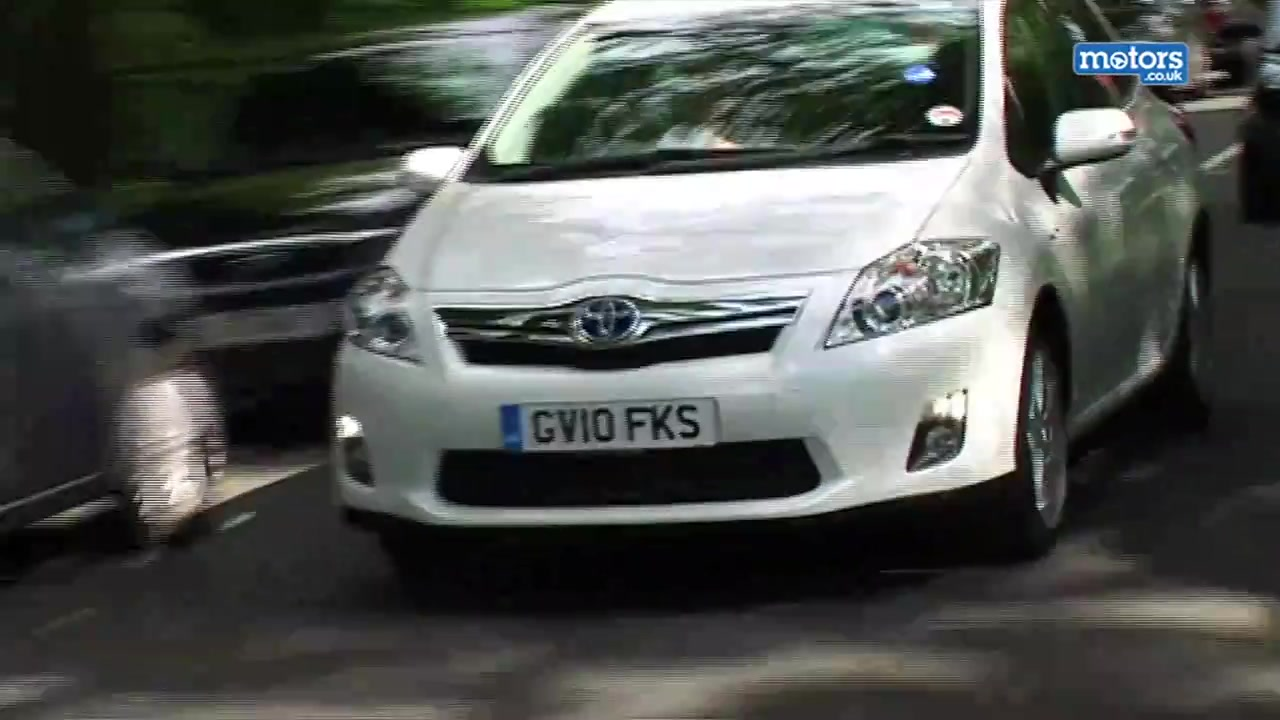car: (330, 2, 1222, 570), (90, 15, 585, 443), (1, 117, 228, 552), (1242, 1, 1280, 238)
